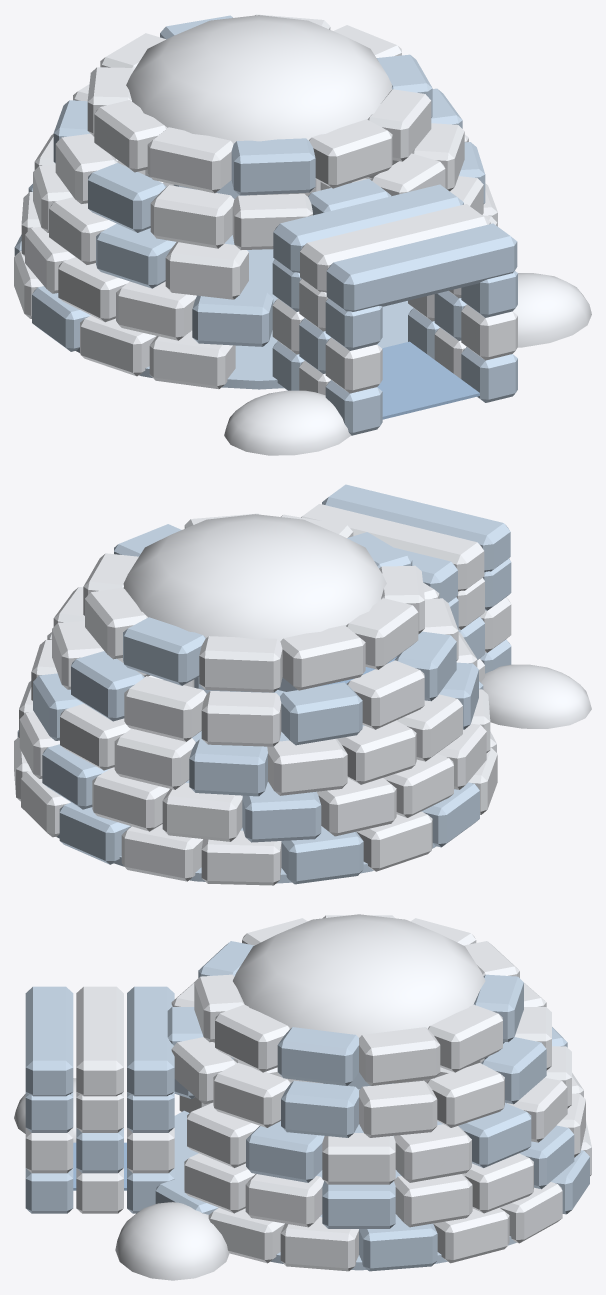
File: prop_igloo.glb
The picture shows the model from 3 angles, top to bottom: view 1: azimuth 30°, elevation 25°; view 2: azimuth 150°, elevation 25°; view 3: azimuth 270°, elevation 25°; orthographic projection. The views are drawn at different scales.
Visible parts, largest first — view 1: igloo; view 2: igloo; view 3: igloo.
Boxes of the visible parts, <box> form: igloo: <box>14,14,591,455</box>; igloo: <box>14,484,591,885</box>; igloo: <box>14,914,591,1280</box>.
Bounding box in the file's own units: 3.88 × 2.12 × 4.66.
1 material, 1 textured.
